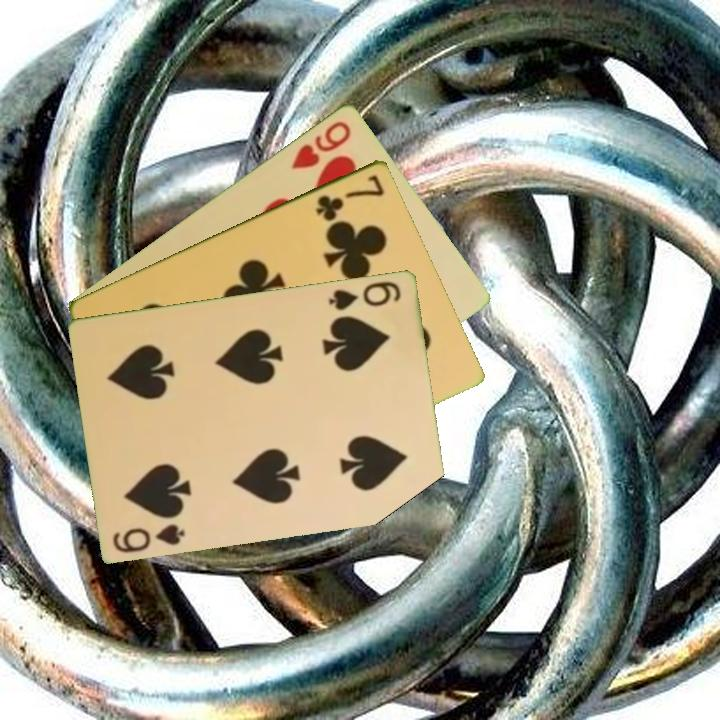6s: (109, 520, 188, 556), (326, 277, 404, 313)
7c: (312, 170, 388, 223)
9h: (288, 116, 354, 172)
